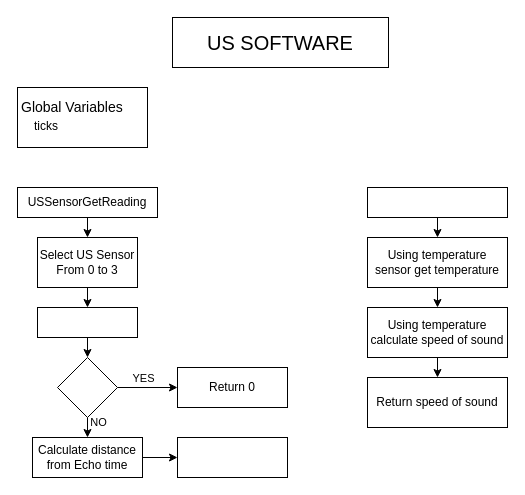
The diagram is 525 pixels wide and 495 high, and some of its shapes have lost their labels. The shapes that lost their labels are listed below. From the top down, each one's centre as x and y in pixels, then its label:
At point 437,202: "USGetSpeedOfSound".
At point 87,322: "Send Trig Pulse".
At point 87,387: "Timeout".
At point 232,457: "Return distance".
